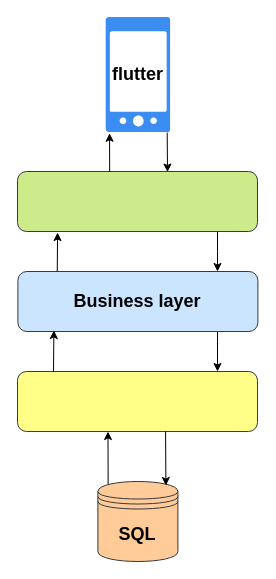
The diagram is 276 pixels wide and 579 high, and some of its shapes have lost their labels. The centre of each missing label's shape, as x and y in pixels:
API Controller: the point at 137,201
Data Access Layer: the point at 137,401
